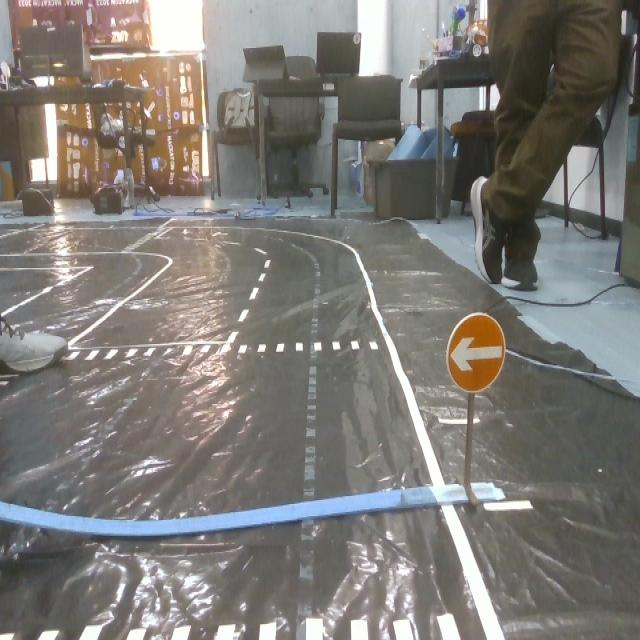forward: (444, 309, 514, 396)
